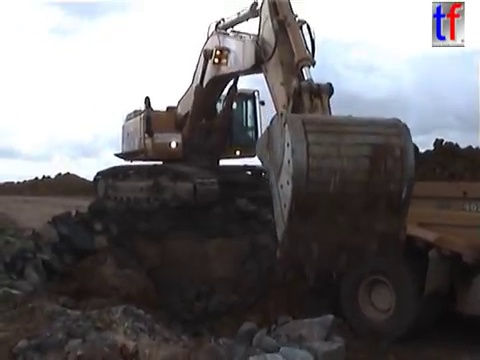excavator: (89, 1, 419, 288)
truck: (281, 176, 480, 346)
